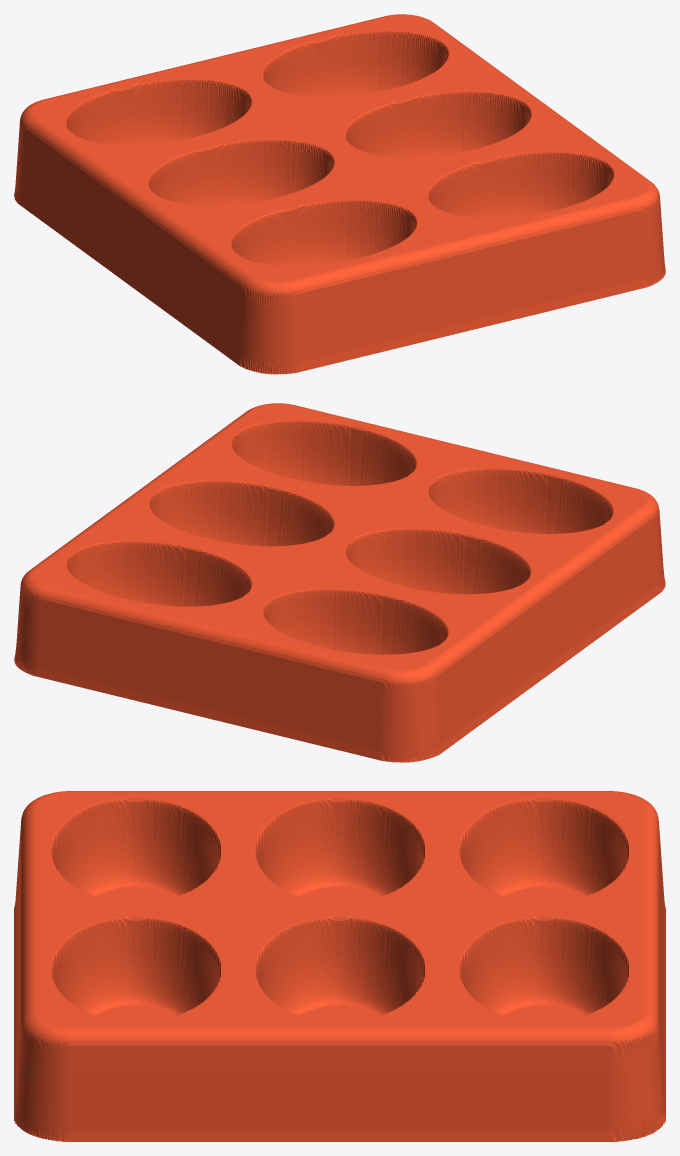
The model's file is mold.glb.
3 renders of one model, top to bottom at view 1: azimuth 30°, elevation 25°; view 2: azimuth 150°, elevation 25°; view 3: azimuth 270°, elevation 25°, orthographic. The views are drawn at different scales.
Visible parts, largest first — view 1: geometry_0; view 2: geometry_0; view 3: geometry_0.
Part boxes in pixels (left/top/right/bottom): geometry_0: left=14, top=14, right=665, bottom=374; geometry_0: left=14, top=403, right=665, bottom=762; geometry_0: left=14, top=791, right=665, bottom=1141.
Size of the model in its own units: 0.0947 by 0.0182 by 0.1026.
